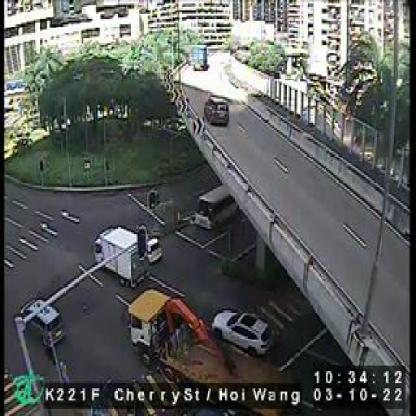Bus: (192, 184, 235, 227)
Car: (212, 303, 270, 357), (20, 298, 62, 345), (202, 94, 228, 126)
Truck: (126, 288, 291, 414), (92, 227, 144, 283)
